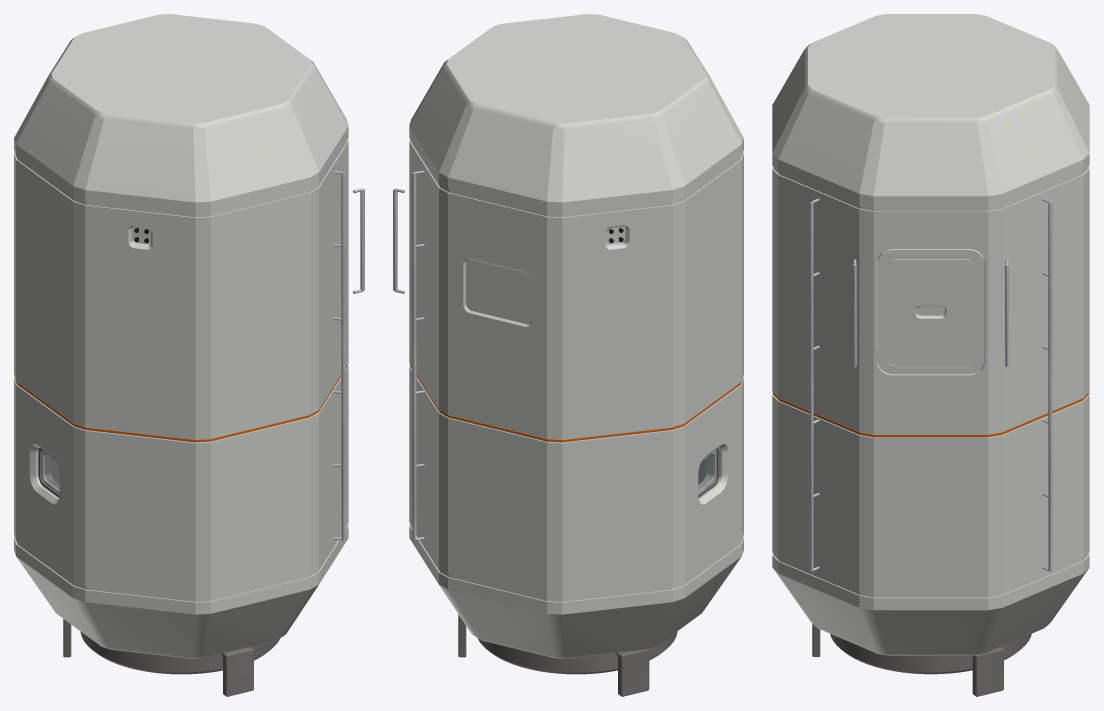
File: ax_station_04_dual_airlock.glb
The picture shows the model from 3 angles, left to right: view 1: azimuth 30°, elevation 25°; view 2: azimuth 150°, elevation 25°; view 3: azimuth 270°, elevation 25°; orthographic projection.
Visible parts, largest first — view 1: pressure_hull, port_bottom, eva_handrails, port_bottom_petals, orange_stripes, handrails; view 2: pressure_hull, port_bottom, eva_handrails, port_bottom_petals, orange_stripes, handrails, window_glass; view 3: pressure_hull, hatch_door_2, eva_handrails, port_bottom, port_bottom_petals, orange_stripes, handrails.
Part boxes in pixels (<box>): pressure_hull: <box>14,14,348,658</box>; port_bottom: <box>80,632,279,674</box>; eva_handrails: <box>333,170,345,540</box>; port_bottom_petals: <box>63,619,253,696</box>; orange_stripes: <box>15,365,347,442</box>; handrails: <box>353,188,364,293</box>; pressure_hull: <box>409,14,743,658</box>; port_bottom: <box>478,632,677,674</box>; eva_handrails: <box>412,170,424,540</box>; port_bottom_petals: <box>458,614,649,696</box>; orange_stripes: <box>410,365,742,442</box>; handrails: <box>393,188,404,293</box>; window_glass: <box>698,450,716,490</box>; pressure_hull: <box>772,14,1089,655</box>; hatch_door_2: <box>877,249,984,374</box>; eva_handrails: <box>809,198,1052,571</box>; port_bottom: <box>830,633,1031,674</box>; port_bottom_petals: <box>812,624,1003,696</box>; orange_stripes: <box>773,393,1088,437</box>; handrails: <box>853,259,1008,367</box>.
Bounding box in the file's own units: 2.58 × 5.08 × 2.5.
6 materials, 2 textured.
